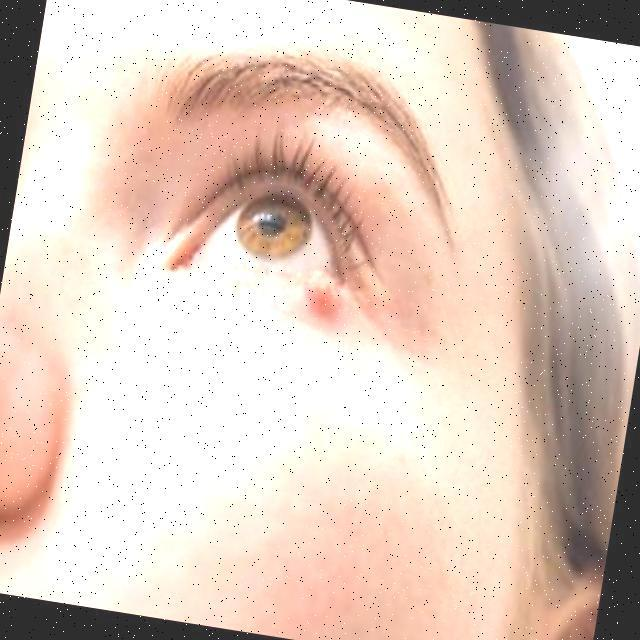Stye: (258, 253, 378, 351)
